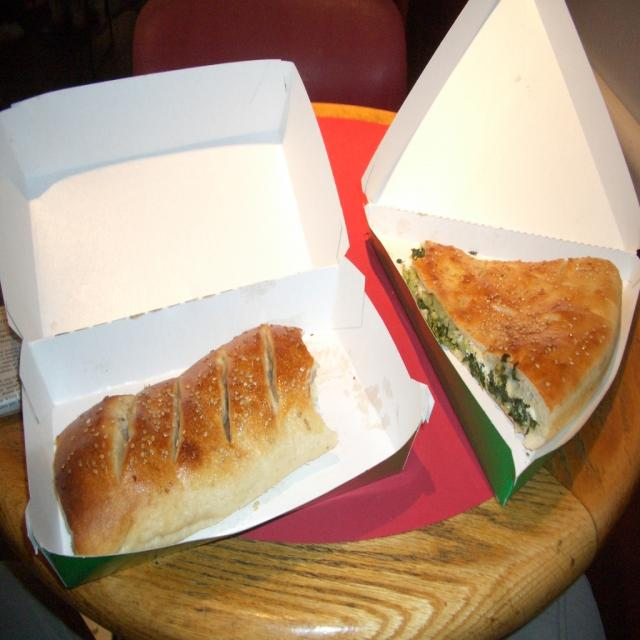Box: (0, 115, 460, 560), (358, 0, 640, 505)
